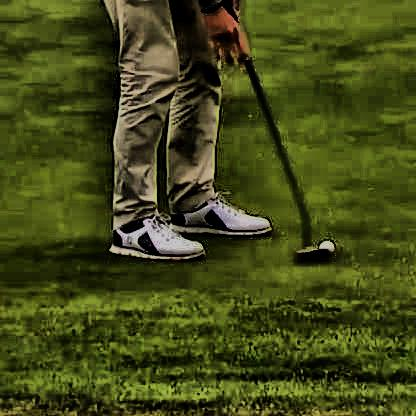golfball: (314, 237, 334, 255)
